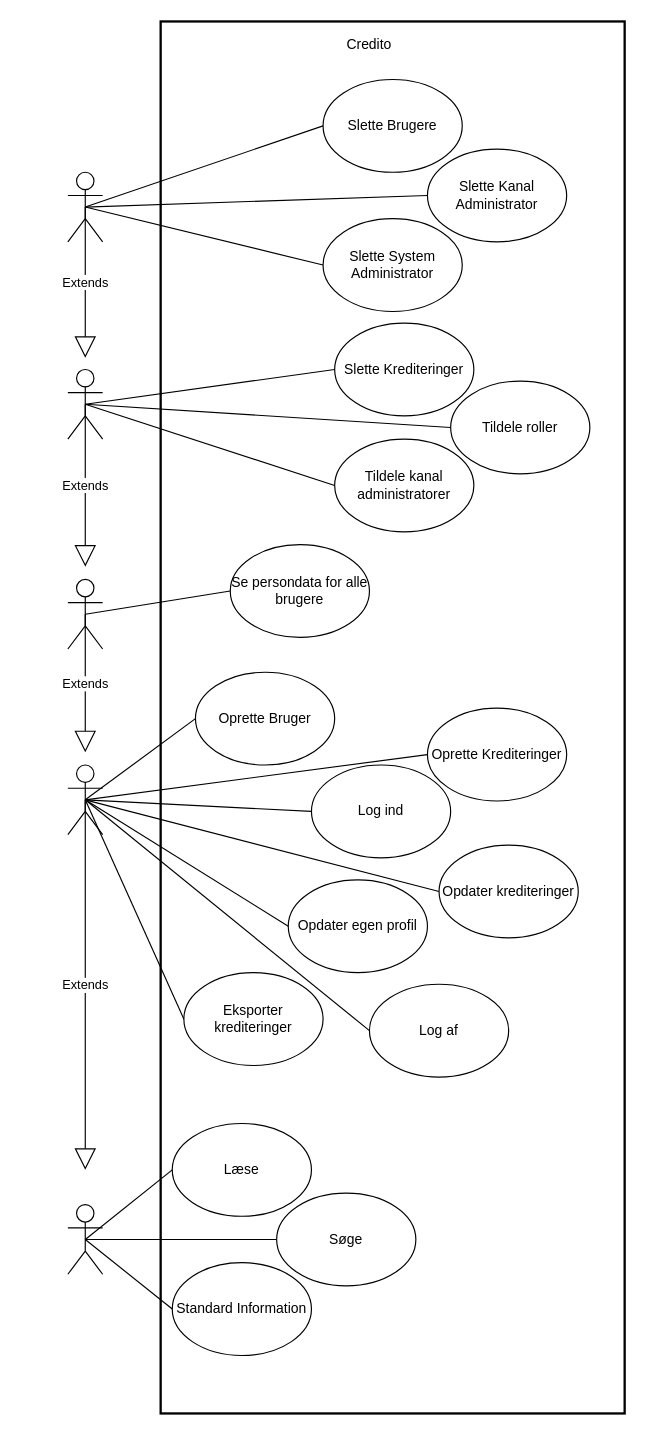
This 646x1434 diagram has some shape labels left out. The centre of each missing label's shape, as x and y in pixels:
Gæst: pixel 85 1239
Kanal Administrator: pixel 85 403
Producer: pixel 85 799
Royalty Bruger: pixel 85 613
System Administrator: pixel 85 206
